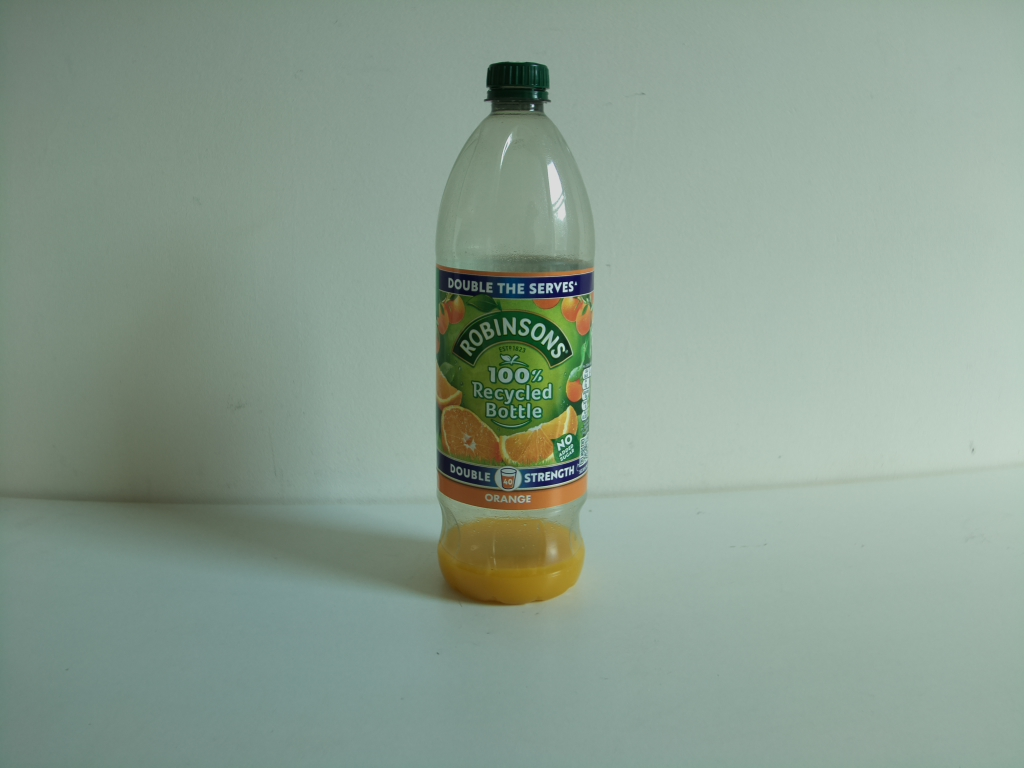juice: (433, 54, 601, 619)
